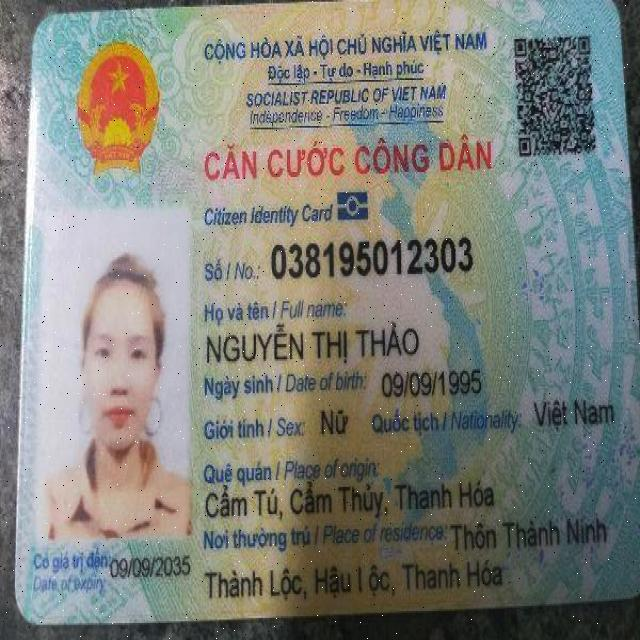current_place: (199, 557, 522, 603), (447, 511, 616, 558)
dob: (380, 368, 485, 400)
expire_date: (108, 556, 194, 576)
gender: (316, 401, 361, 449)
id: (263, 232, 474, 282)
name: (202, 324, 418, 369)
nationality: (518, 388, 624, 443)
origin_place: (186, 477, 509, 521)
